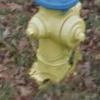Hydrant: (23, 0, 88, 87)
